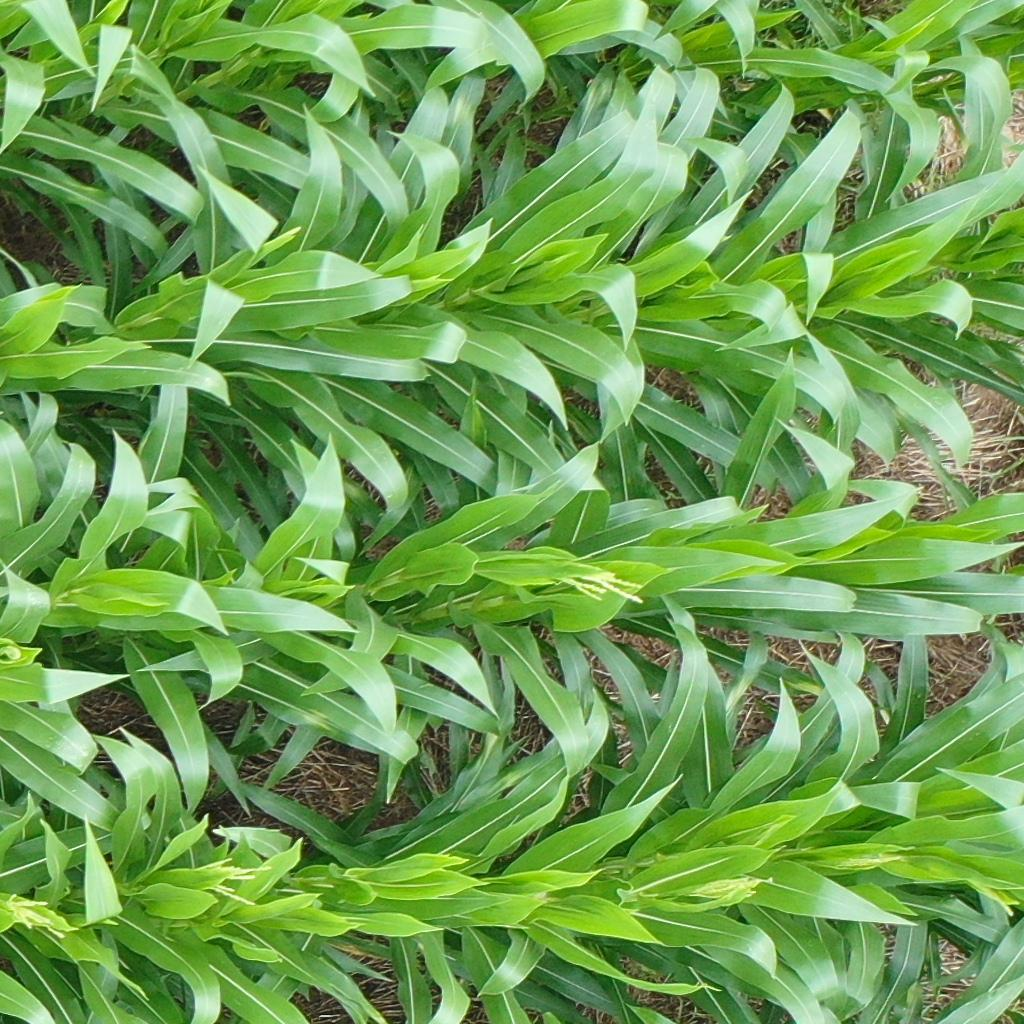Tassel: (178, 852, 273, 912), (556, 563, 650, 613), (1, 887, 72, 938), (686, 874, 778, 910), (831, 850, 907, 872)
